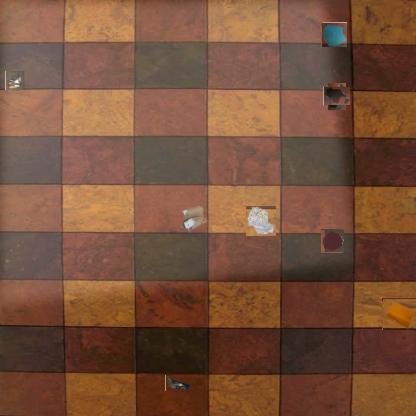dirty: (382, 298, 416, 330), (178, 204, 209, 234), (247, 206, 276, 236), (321, 22, 347, 47), (165, 375, 190, 391), (5, 71, 25, 90)
liquid: (321, 230, 344, 252), (326, 85, 348, 108)
